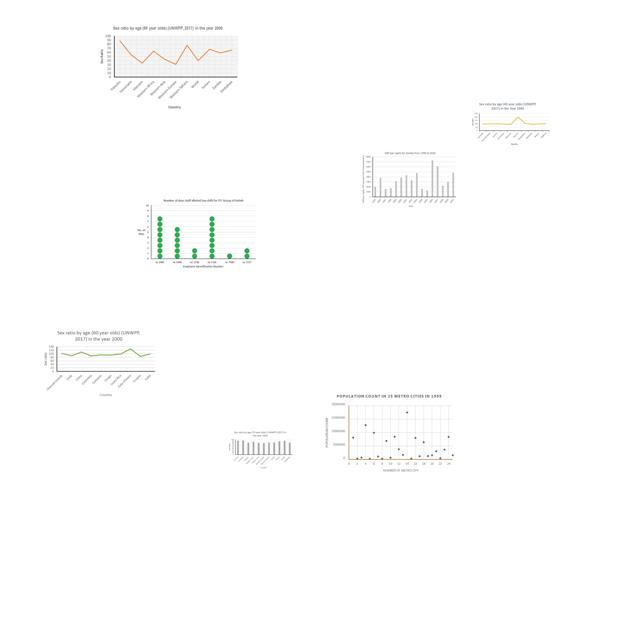Graph: (98, 24, 240, 110), (323, 392, 458, 474), (135, 196, 258, 272), (40, 328, 157, 399), (361, 150, 457, 208), (471, 101, 551, 147), (227, 430, 293, 469)
